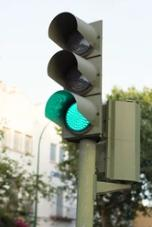green_light: (45, 12, 102, 141)
